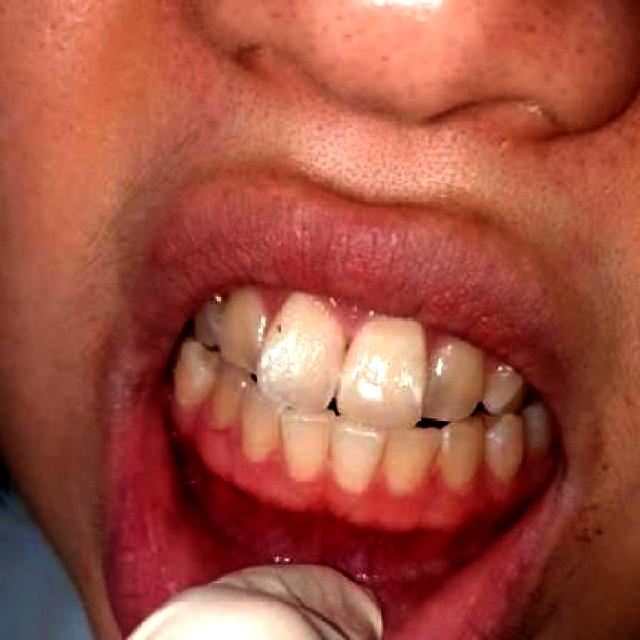Plaque: (208, 397, 230, 429)
